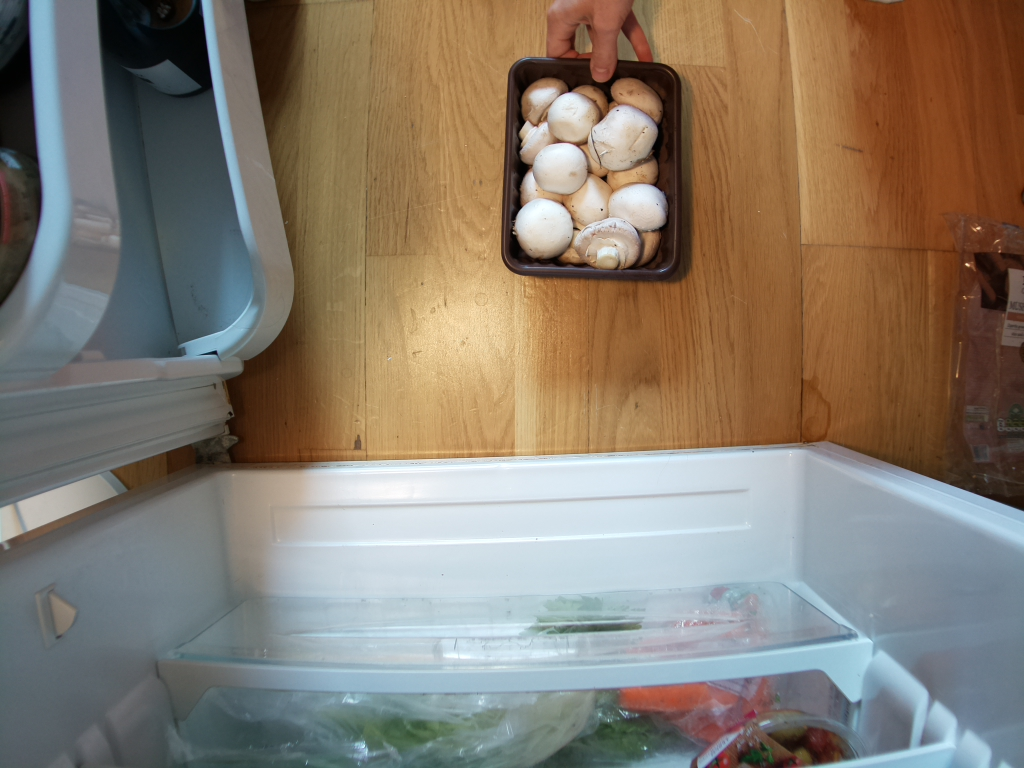mushrooms: (504, 51, 694, 290)
